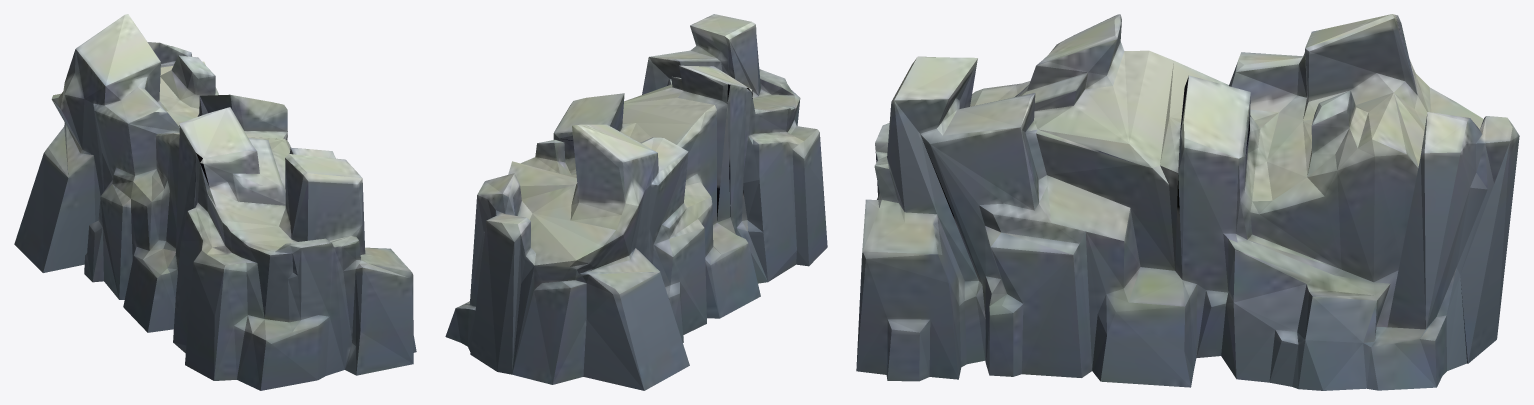
Rendered from cliff_wide_moss.glb.
The picture shows the model from 3 angles, left to right: view 1: azimuth 30°, elevation 25°; view 2: azimuth 150°, elevation 25°; view 3: azimuth 270°, elevation 25°; orthographic projection. The views are drawn at different scales.
Parts seen in each view (by area): view 1: cliff_wide_moss; view 2: cliff_wide_moss; view 3: cliff_wide_moss.
Boxes of the visible parts, <box> form: cliff_wide_moss: <box>14,14,416,390</box>; cliff_wide_moss: <box>445,14,827,390</box>; cliff_wide_moss: <box>856,14,1519,390</box>.
Size of the model in its own units: 5.29 by 5.29 by 10.58.
1 material, 1 textured.
